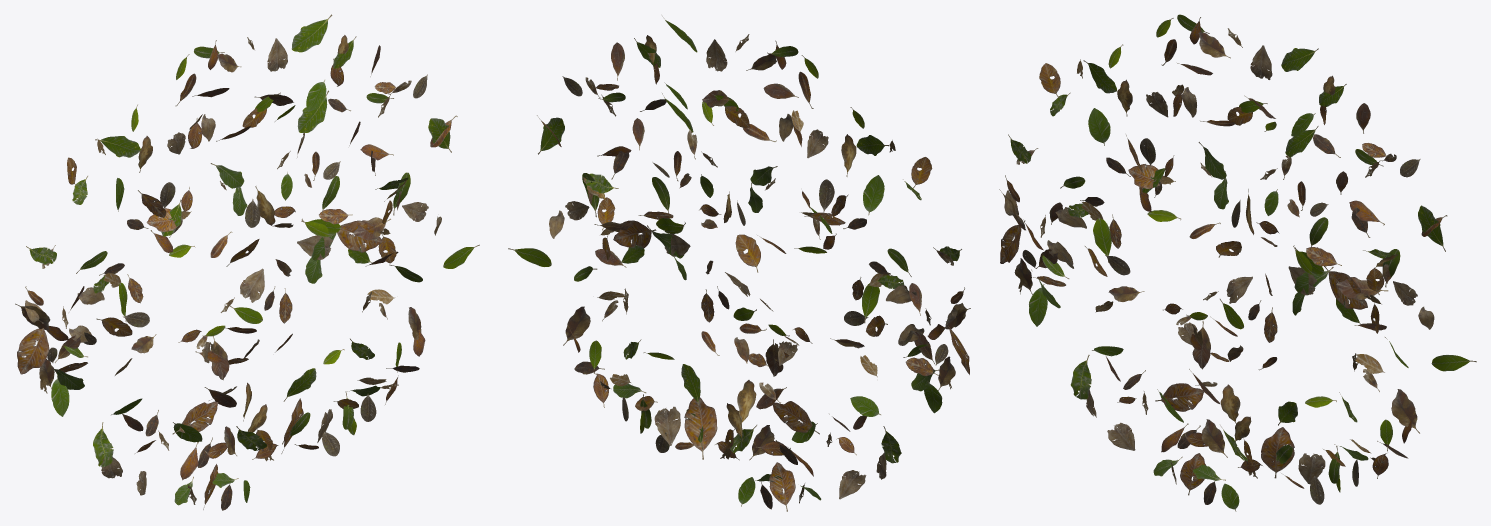
The model's file is Leaf_Pile_01_Var1_LOD1.fbx.
3 renders of one model, left to right at view 1: azimuth 30°, elevation 25°; view 2: azimuth 150°, elevation 25°; view 3: azimuth 330°, elevation 25°, orthographic. The views are drawn at different scales.
Parts seen in each view (by area): view 1: Var1_LOD1; view 2: Var1_LOD1; view 3: Var1_LOD1.
Part boxes in pixels (<box>): Var1_LOD1: <box>15,14,479,510</box>; Var1_LOD1: <box>508,16,970,511</box>; Var1_LOD1: <box>999,14,1476,511</box>.
Bounding box in the file's own units: 169 × 165 × 7.6.
